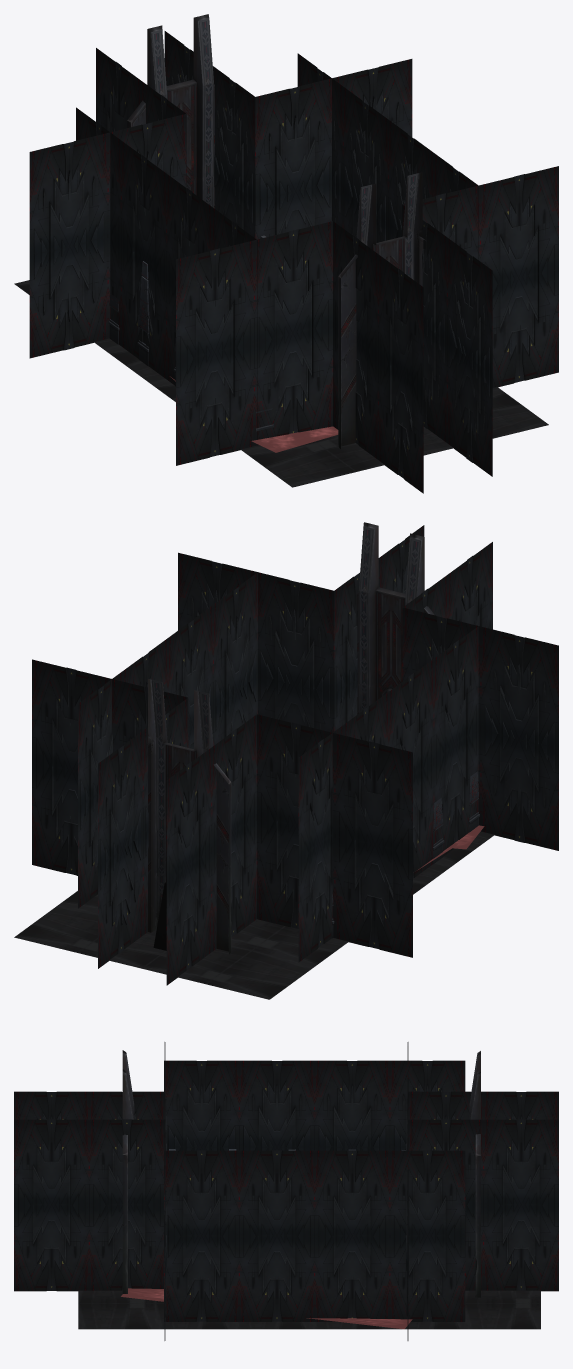
Rendered from env_mala_provinggrounds_pre.glb.
3 renders of one model, top to bottom at view 1: azimuth 30°, elevation 25°; view 2: azimuth 150°, elevation 25°; view 3: azimuth 270°, elevation 25°, orthographic. The views are drawn at different scales.
Parts seen in each view (by area): view 1: mala_wall_05_mesh (15), mala_wall_05_mesh (8), mala_wall_05_mesh (22), mala_wall_05_mesh (23), mala_wall_05_mesh (14), mala_wall_05_mesh (4), mala_wall_05_mesh (20), mala_wall_05_mesh (9), mala_wall_05_mesh (13), mala_provingground_floor_01_mesh, mala_wall_05_mesh (10), mala_wall_door_combo_01_mesh (1) (+15 smaller); view 2: mala_wall_05_mesh (22), mala_wall_05_mesh (4), mala_provingground_floor_01_mesh, mala_wall_05_mesh (15), mala_wall_05_mesh (14), mala_wall_door_combo_01_mesh, mala_wall_05_mesh (18), mala_wall_05_mesh (12), mala_wall_05_mesh (8), mala_wall_05_mesh (19), mala_wall_05_mesh (5), mala_wall_05_mesh (23) (+14 smaller); view 3: mala_wall_05_mesh (17), mala_wall_05_mesh (12), mala_wall_05_mesh (19), mala_wall_05_mesh (2), mala_wall_05_mesh (3), mala_wall_05_mesh (13), mala_wall_05_mesh (10), mala_wall_05_mesh (16), mala_wall_05_mesh (21), mala_provingground_floor_01_mesh, mala_wall_05_mesh (6), mala_wall_05_mesh (20) (+5 smaller).
Boxes of the visible parts, x1,y1,x2,y2 form: mala_wall_05_mesh (15): (176, 221, 332, 362); mala_wall_05_mesh (8): (176, 324, 332, 465); mala_wall_05_mesh (22): (29, 114, 186, 254); mala_wall_05_mesh (23): (255, 59, 412, 199); mala_wall_05_mesh (14): (402, 166, 558, 285); mala_wall_05_mesh (4): (29, 235, 110, 358); mala_wall_05_mesh (20): (333, 221, 423, 390); mala_wall_05_mesh (9): (333, 324, 423, 493); mala_wall_05_mesh (13): (402, 204, 492, 373); mala_provingground_floor_01_mesh: (14, 280, 548, 487); mala_wall_05_mesh (10): (423, 325, 492, 476); mala_wall_door_combo_01_mesh (1): (338, 172, 425, 448); mala_wall_05_mesh (22): (257, 714, 412, 854); mala_wall_05_mesh (4): (257, 817, 412, 957); mala_provingground_floor_01_mesh: (14, 831, 494, 999); mala_wall_05_mesh (15): (402, 607, 558, 747); mala_wall_05_mesh (14): (178, 552, 334, 692); mala_wall_door_combo_01_mesh: (146, 679, 231, 954); mala_wall_05_mesh (18): (166, 714, 256, 882); mala_wall_05_mesh (12): (389, 626, 478, 774); mala_wall_05_mesh (8): (478, 728, 558, 850); mala_wall_05_mesh (19): (168, 572, 257, 727); mala_wall_05_mesh (5): (166, 817, 256, 985); mala_wall_05_mesh (23): (32, 659, 187, 772); mala_wall_05_mesh (17): (314, 1150, 465, 1236); mala_wall_05_mesh (12): (164, 1060, 314, 1147); mala_wall_05_mesh (19): (164, 1150, 314, 1236); mala_wall_05_mesh (2): (164, 1236, 314, 1321); mala_wall_05_mesh (3): (314, 1236, 465, 1321); mala_wall_05_mesh (13): (14, 1119, 164, 1205); mala_wall_05_mesh (10): (14, 1205, 163, 1291); mala_wall_05_mesh (16): (314, 1060, 465, 1147); mala_wall_05_mesh (21): (408, 1119, 558, 1205); mala_provingground_floor_01_mesh: (78, 1290, 540, 1329); mala_wall_05_mesh (6): (465, 1205, 558, 1291); mala_wall_05_mesh (20): (14, 1091, 164, 1119).
Bounding box in the file's own units: 37.12 × 24 × 55.06.
14 materials, 14 textured.
